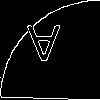A: (25, 25, 61, 72)
